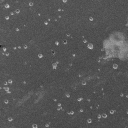corrosion: (101, 33, 128, 61), (52, 61, 59, 69), (4, 14, 11, 21), (87, 43, 94, 50), (67, 110, 74, 117), (36, 53, 44, 59), (112, 63, 118, 70), (81, 79, 87, 86), (3, 86, 10, 92), (76, 96, 82, 102), (3, 98, 9, 104), (43, 20, 49, 26), (28, 1, 34, 7), (87, 117, 92, 124), (65, 92, 70, 98), (7, 117, 13, 122), (88, 17, 94, 22), (15, 27, 20, 33), (109, 109, 115, 114), (102, 112, 107, 118), (4, 2, 9, 8), (82, 38, 87, 44), (15, 8, 20, 14), (44, 123, 50, 128), (50, 49, 56, 54), (62, 40, 67, 45), (57, 102, 62, 107), (8, 78, 12, 84), (2, 46, 6, 52), (24, 44, 28, 50), (32, 124, 38, 128), (55, 41, 60, 45), (72, 53, 76, 58), (119, 93, 123, 98), (57, 8, 61, 12), (17, 46, 21, 50), (79, 109, 83, 113), (62, 1, 67, 4), (87, 98, 90, 102), (97, 68, 100, 72)
